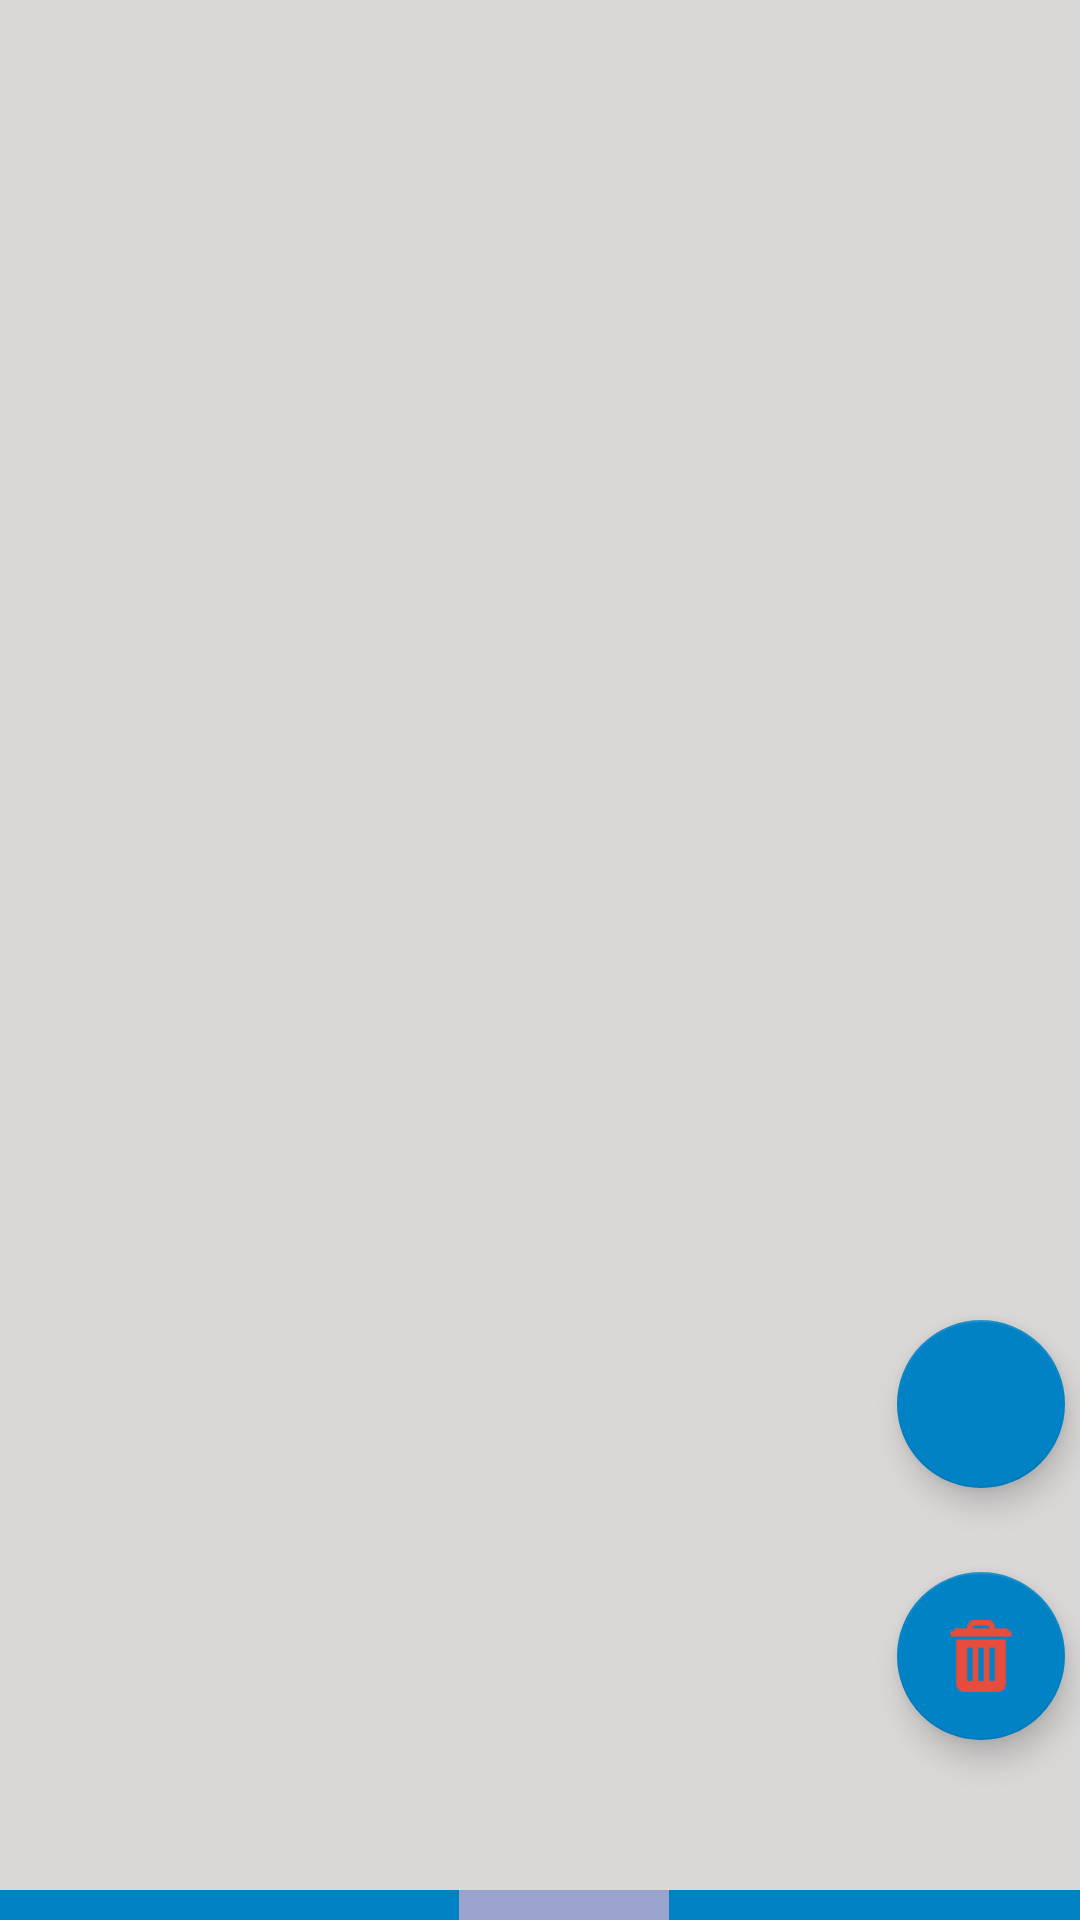

Named icons in this screenshot (1080 × 1920) and their bounding boxes, (x1, y1, x2, y2):
trash: (897, 1572, 1065, 1740)
